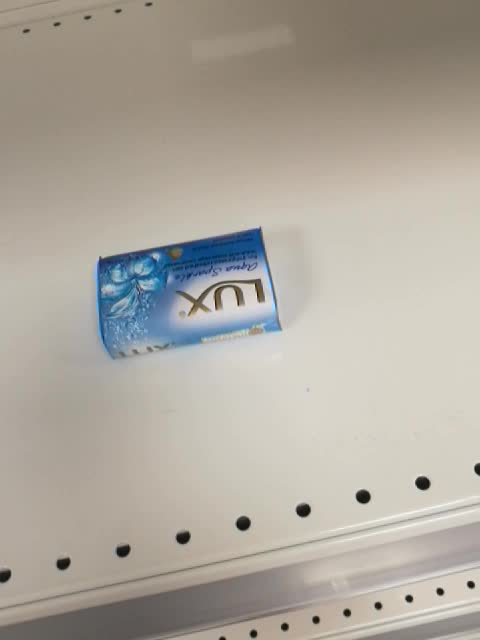soap: (94, 225, 284, 360)
